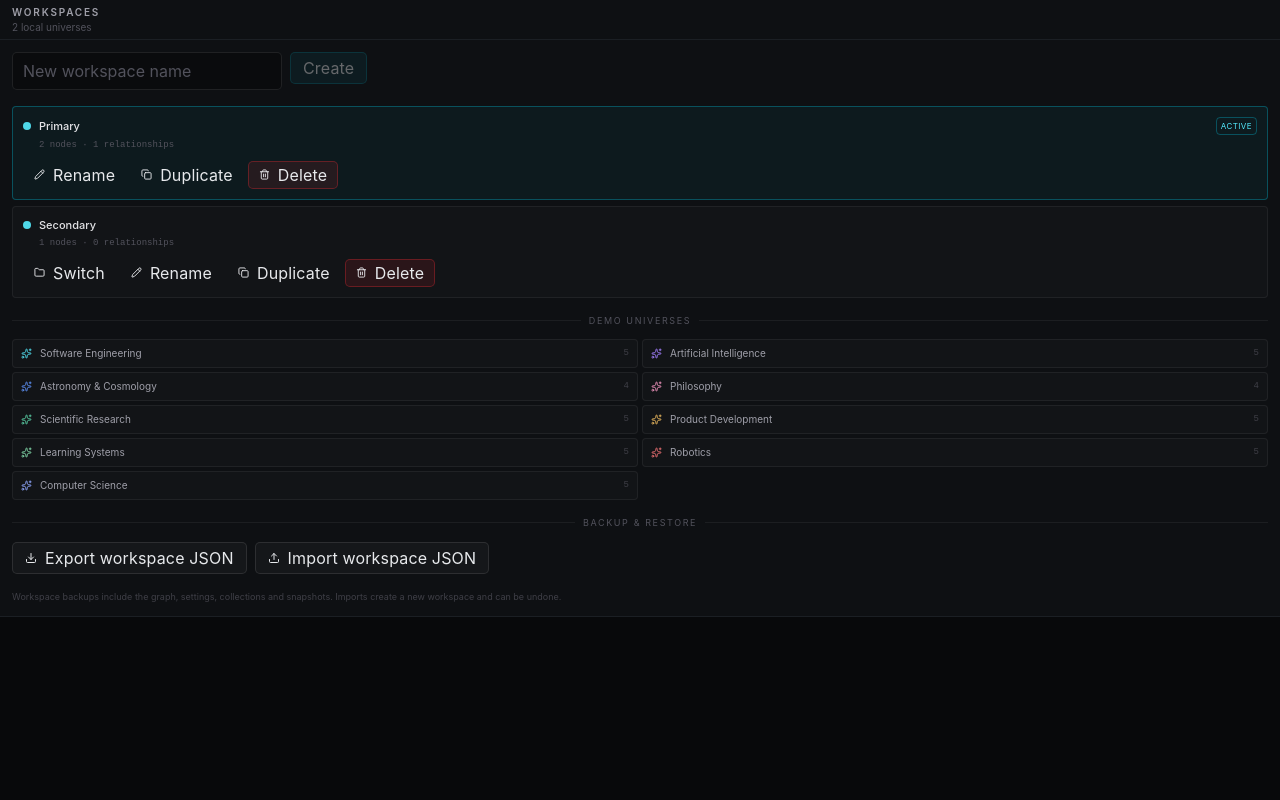
WorkspacePanel › creates a workspace from the name field
The width and height of the screenshot is (1280, 800).
In the field labelled "New workspace name": x=147, y=71 [12, 52, 282, 90], type "Fresh"
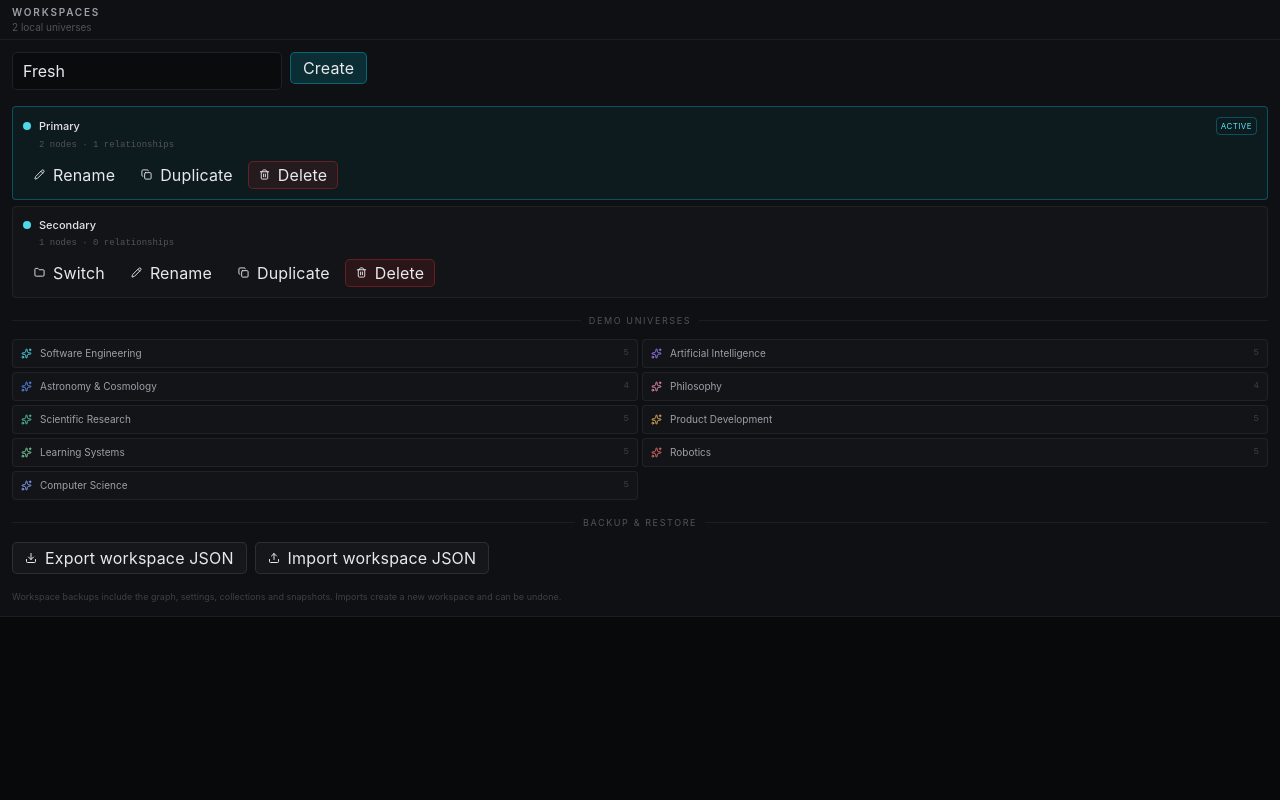
Click the button "Create": x=329, y=68 [290, 52, 367, 84]
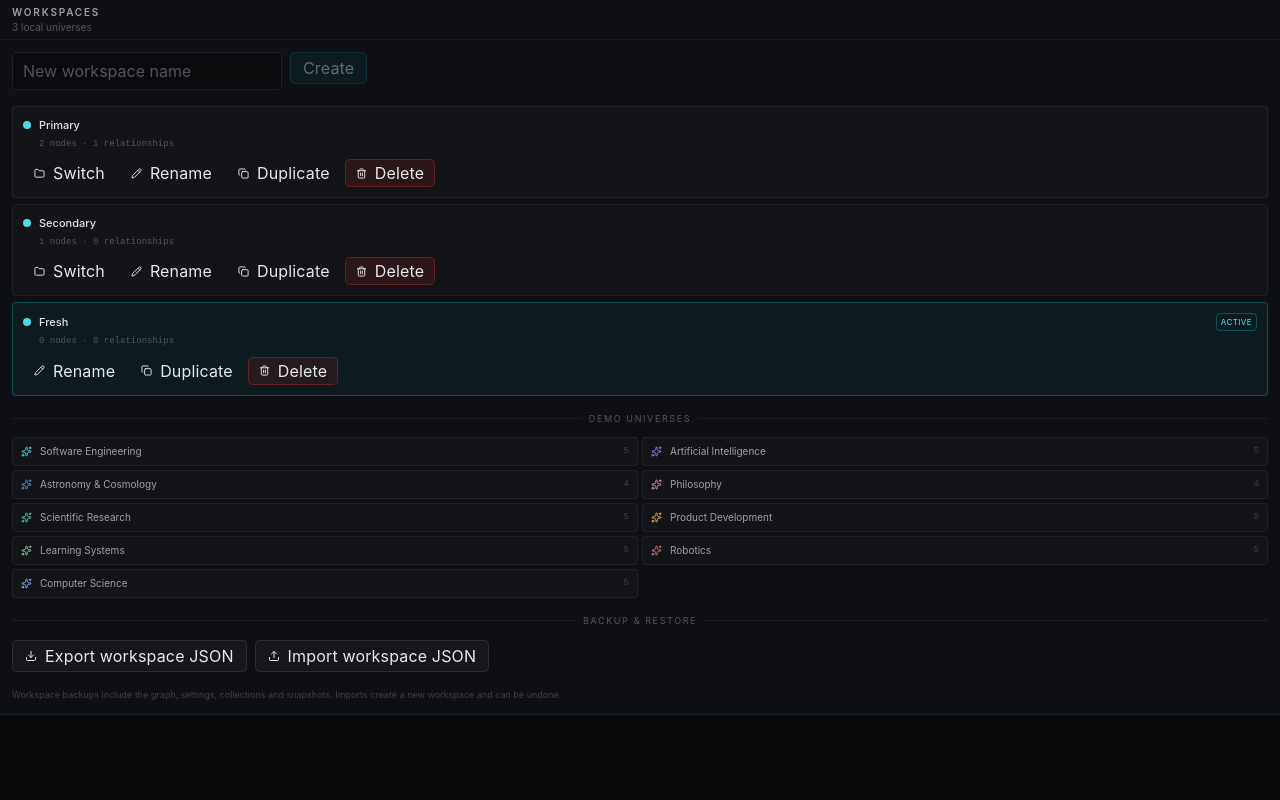
expect the text "Fresh" is shown: met, box [39, 315, 68, 329]
